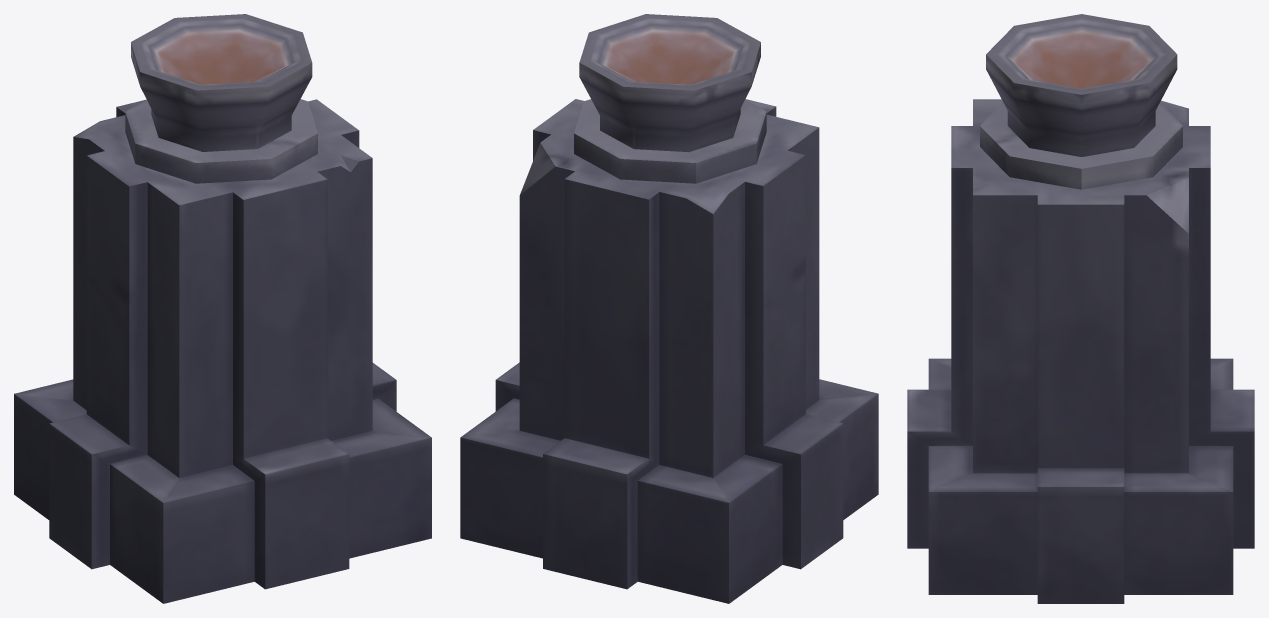
Rendered from Beidaying_xiaowujian02.FBX.
3 renders of one model, left to right at view 1: azimuth 30°, elevation 25°; view 2: azimuth 150°, elevation 25°; view 3: azimuth 270°, elevation 25°, orthographic.
Visible parts, largest first — view 1: Beidaying_xiaowujian02; view 2: Beidaying_xiaowujian02; view 3: Beidaying_xiaowujian02.
Part boxes in pixels (box(x1,y1,x2,y2)): Beidaying_xiaowujian02: box(14, 14, 431, 603); Beidaying_xiaowujian02: box(460, 14, 878, 603); Beidaying_xiaowujian02: box(907, 14, 1254, 603).
Bounding box in the file's own units: 39.8 × 38.52 × 57.88.
